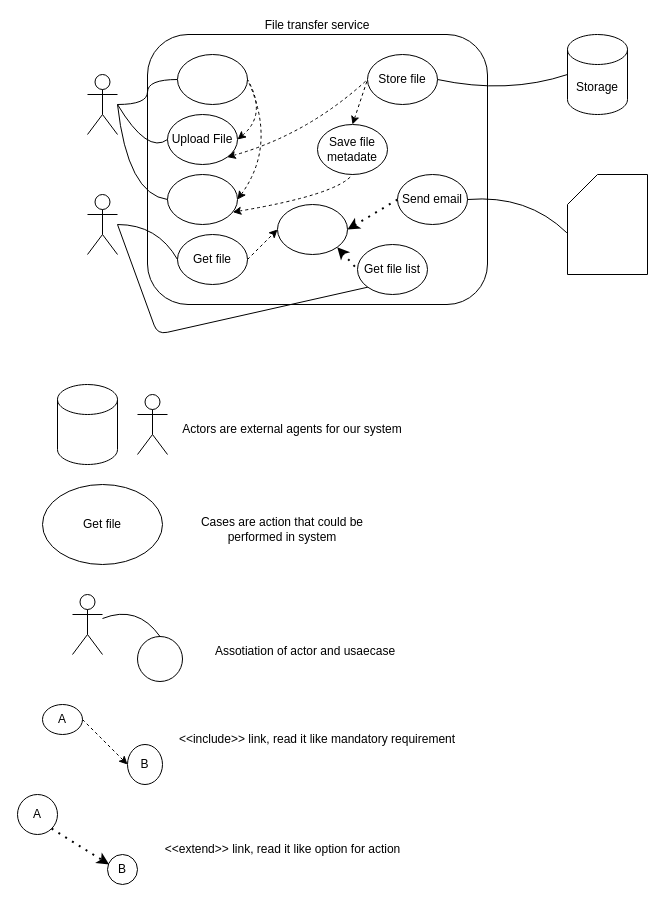
Some shapes in this 665 by 902 pixel diagram are drawn without their labels. The shapes that lost their labels are listed below. From the top down, each one's centre as x and y in pixels, then its label:
At (212,79): "Send file".
At (102,104): "Sender".
At (202,199): "Specify Recepient".
At (102,224): "Recepient".
At (312,229): "Get available".
At (607,224): "Email service".
At (87,624): "Actor".
